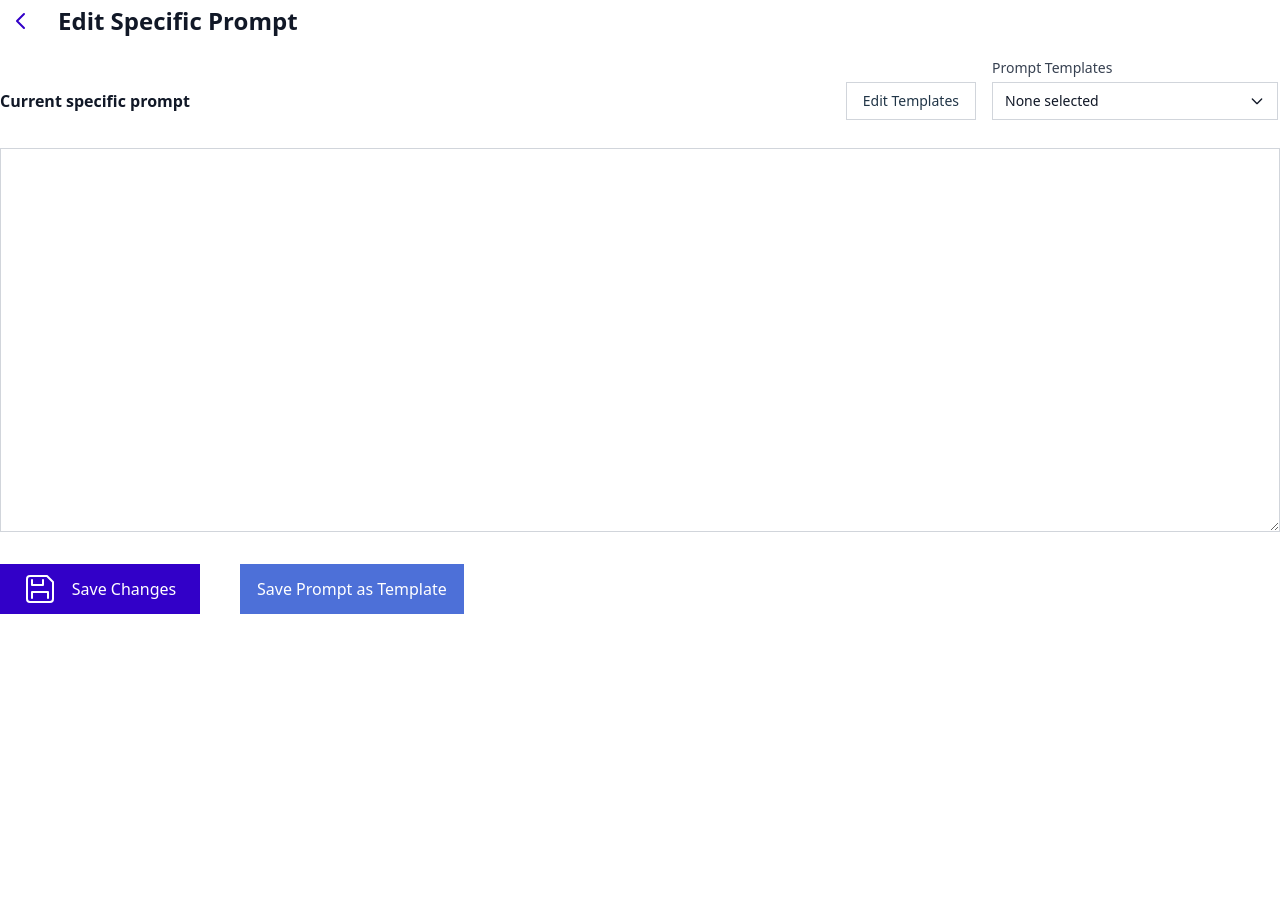
Test: EditSpecificPromptMenu - integration tests › edits a template
# Open Manage Templates modal
Click the button "Edit Templates": (911, 101) [846,82,976,120]
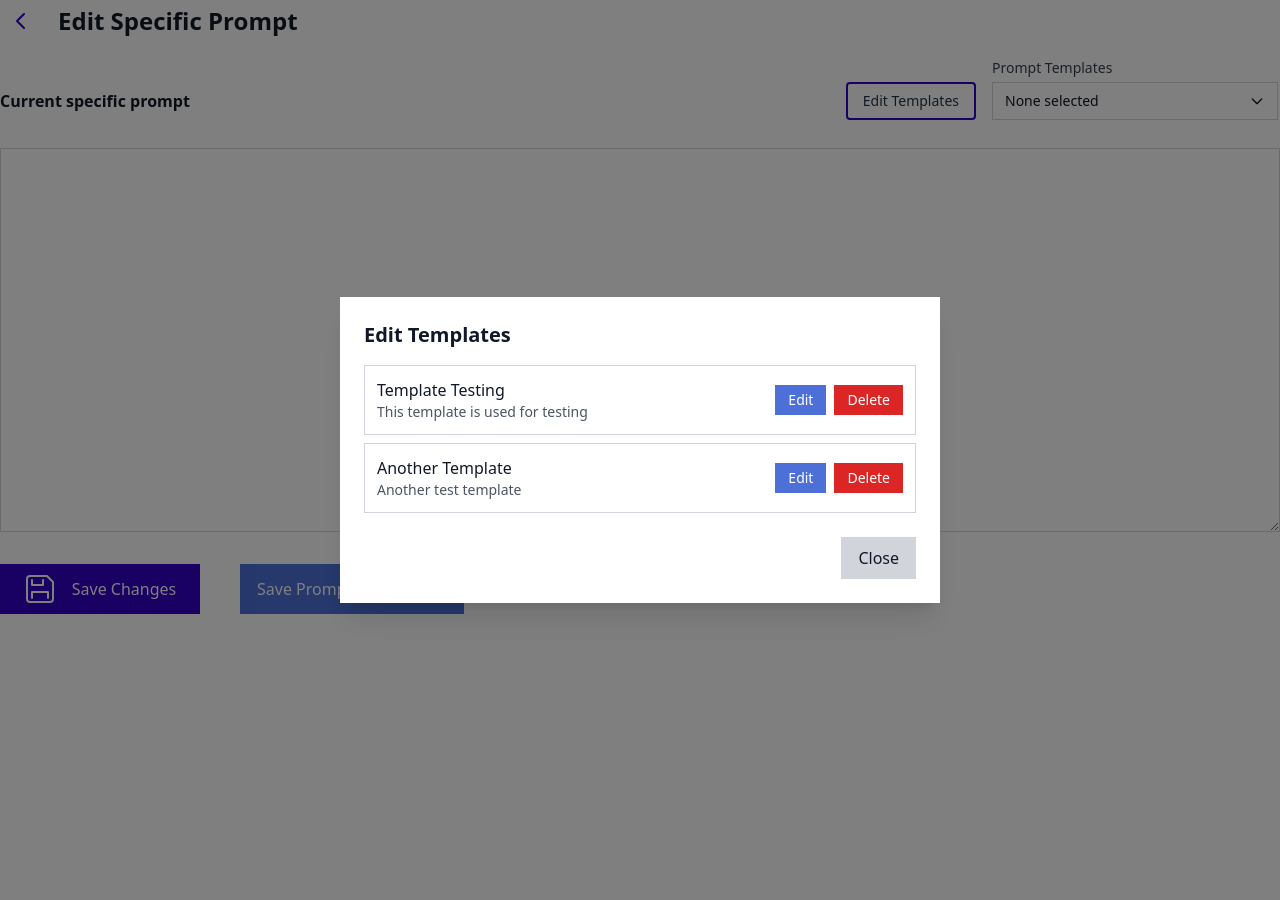
Result: the text "Template Testing" is shown at [377,379,505,401]
# Click edit on first template
Click the button "Edit" in the row of "This template is used for testing": (801, 400) [775,385,826,415]
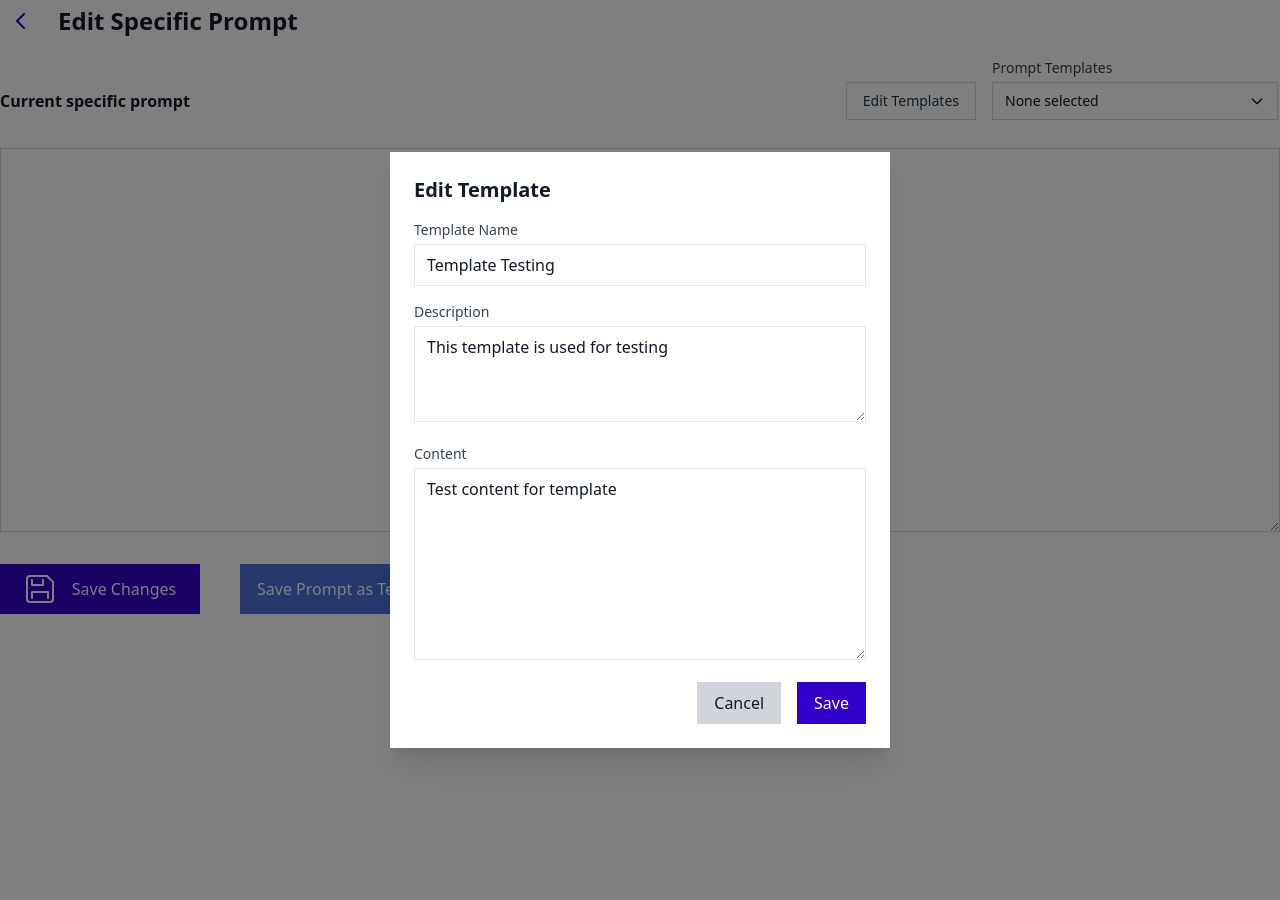
Result: the field showing "template testing" is shown
# Update template name
Replace the text in the field showing "template testing" with "Edited Template": (640, 265) [414,244,866,286]
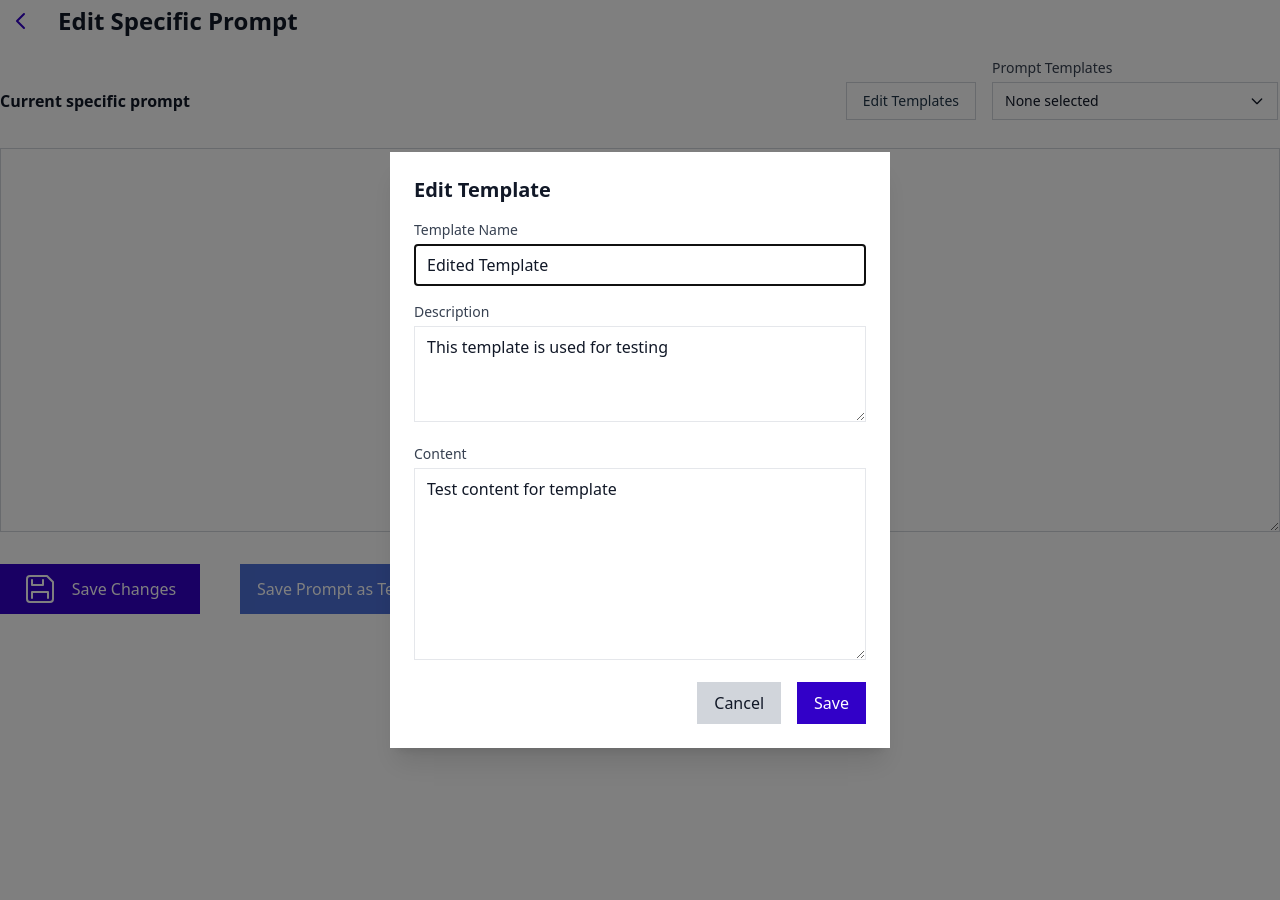
Replace the text in the 1st text box showing "this template is used for testing" with "Edited description": (640, 374) [414,326,866,422]
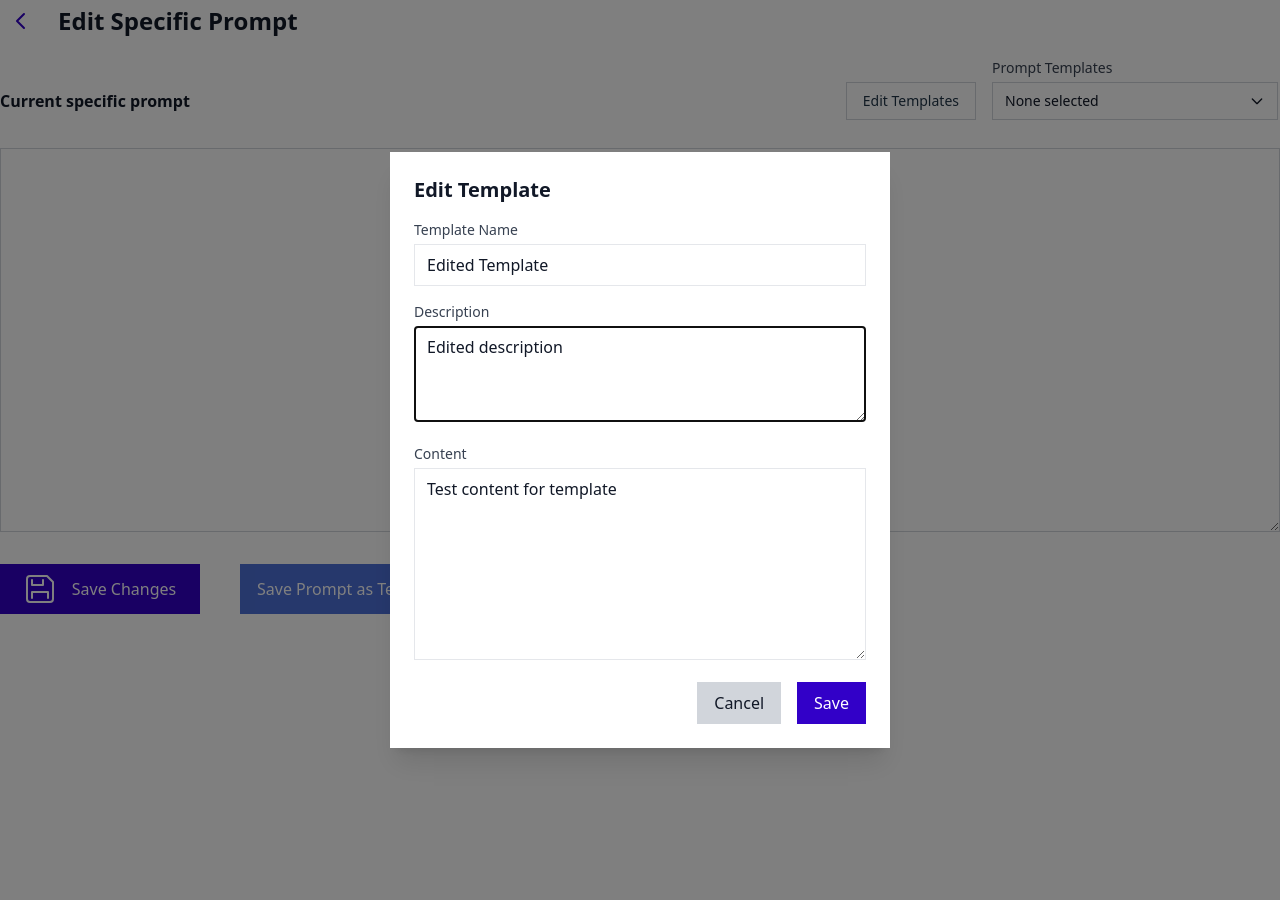
# Save the changes
Click the button "Save": (832, 703) [797,682,866,724]
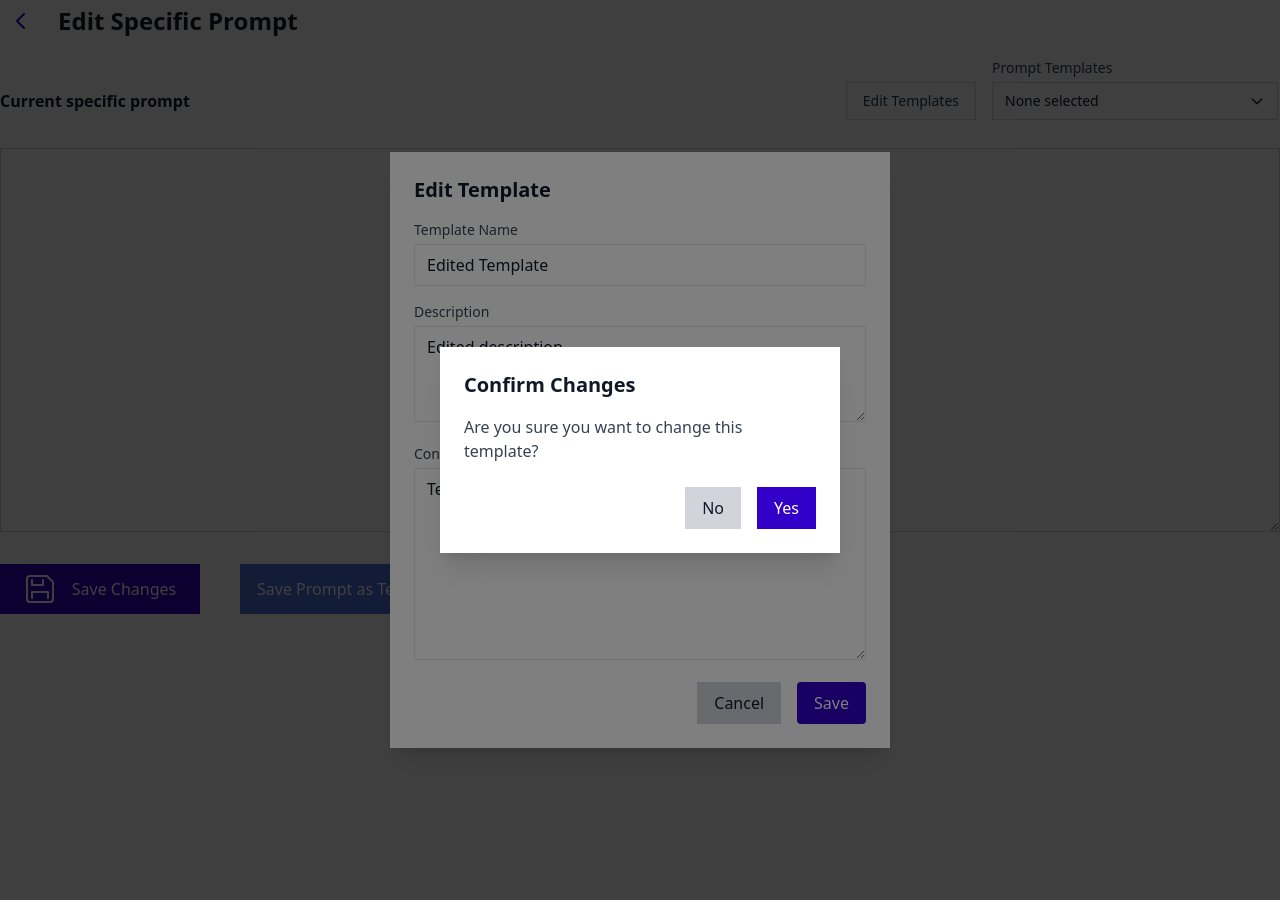
Result: the button "Yes" is shown
Click the button "Yes": (786, 508) [757,487,816,529]
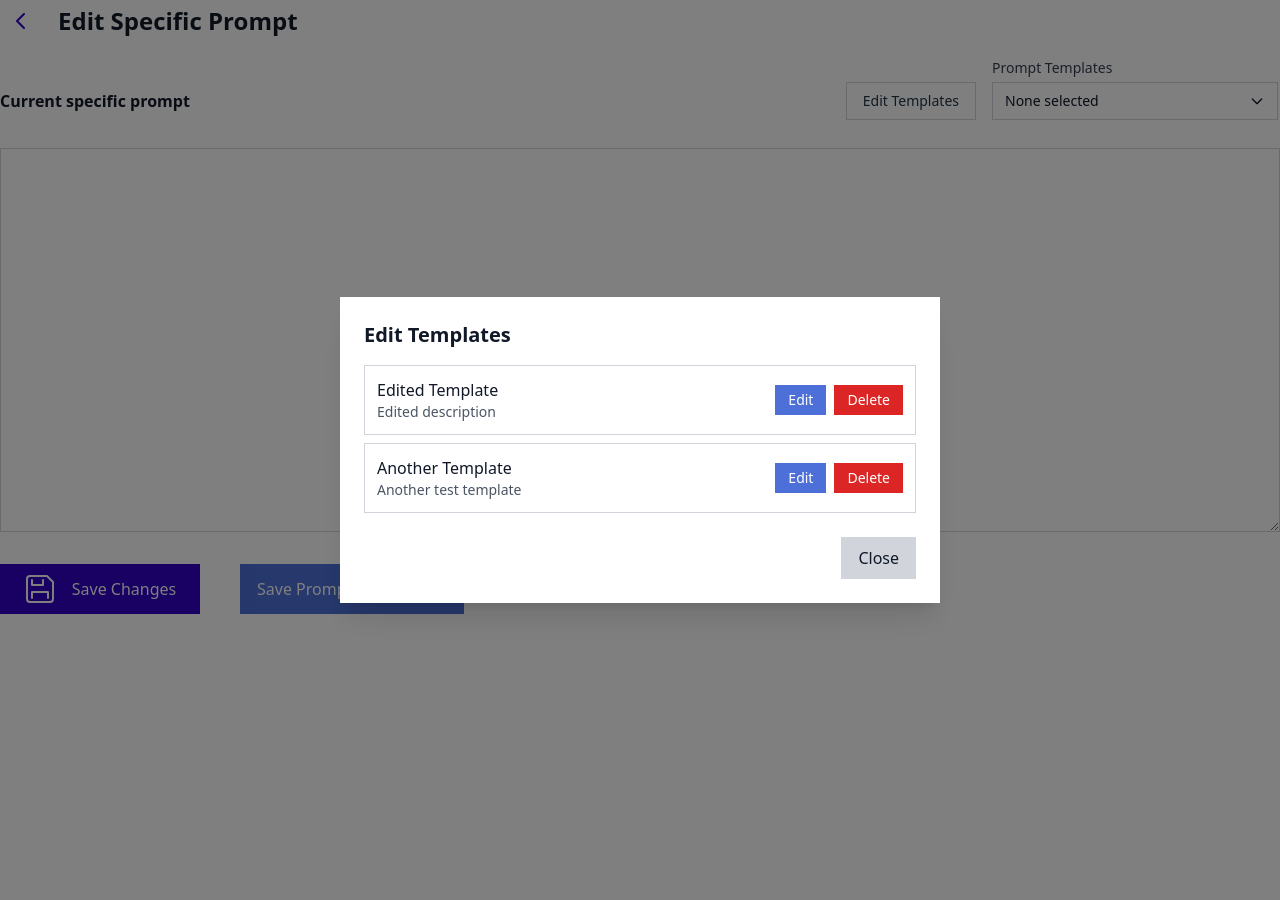
Result: the text "Edited Template" is shown at [377,379,498,401]
Result: the text "Edited description" is shown at [377,402,496,421]
